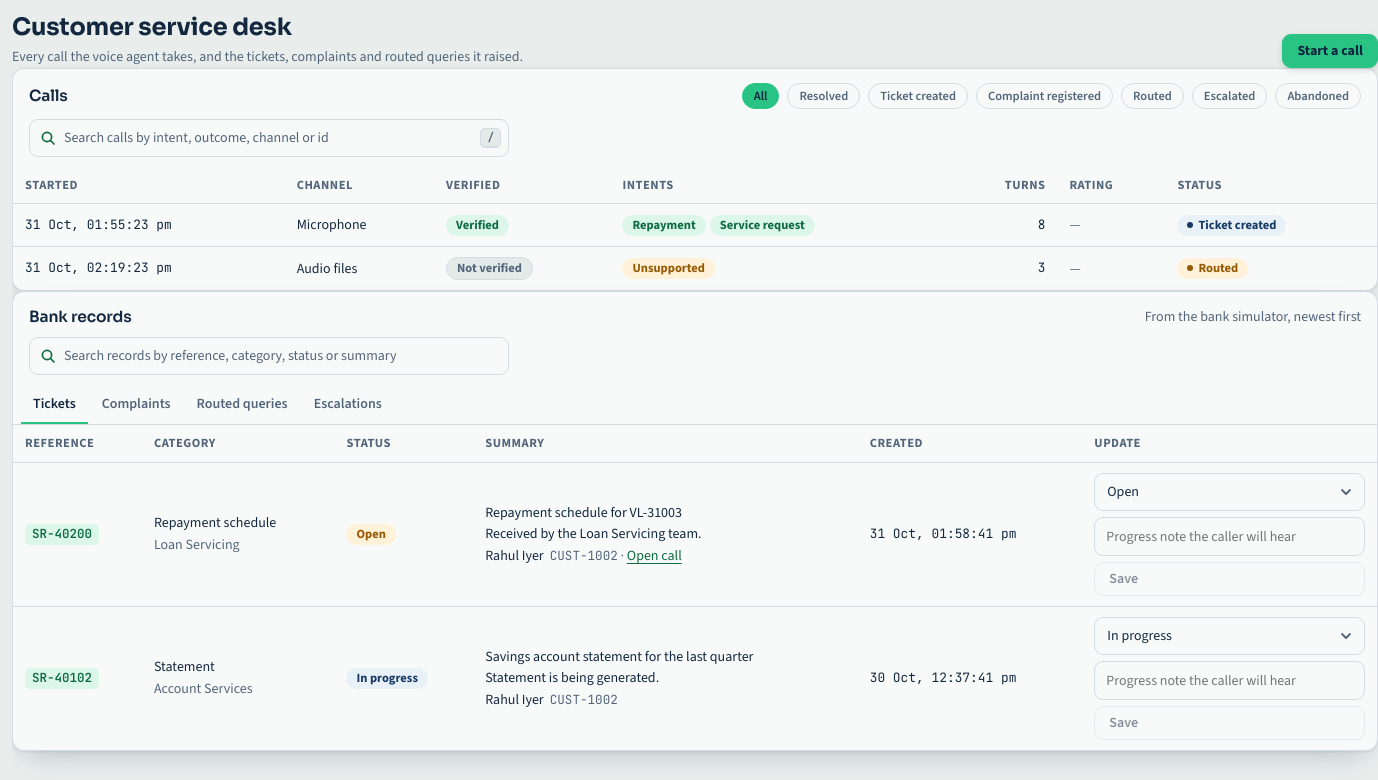
Test case: SupportDesk › stages a status and a progress note, saves only on Save, and refreshes the row
expect the text "SR-40200" is shown: met, box [25, 524, 99, 545]
expect the button with aria-label "Save SR-40200" is disabled: met, box [1094, 562, 1365, 596]
Click the button with aria-label "Status of SR-40200": [1123, 491] box [1094, 473, 1365, 511]
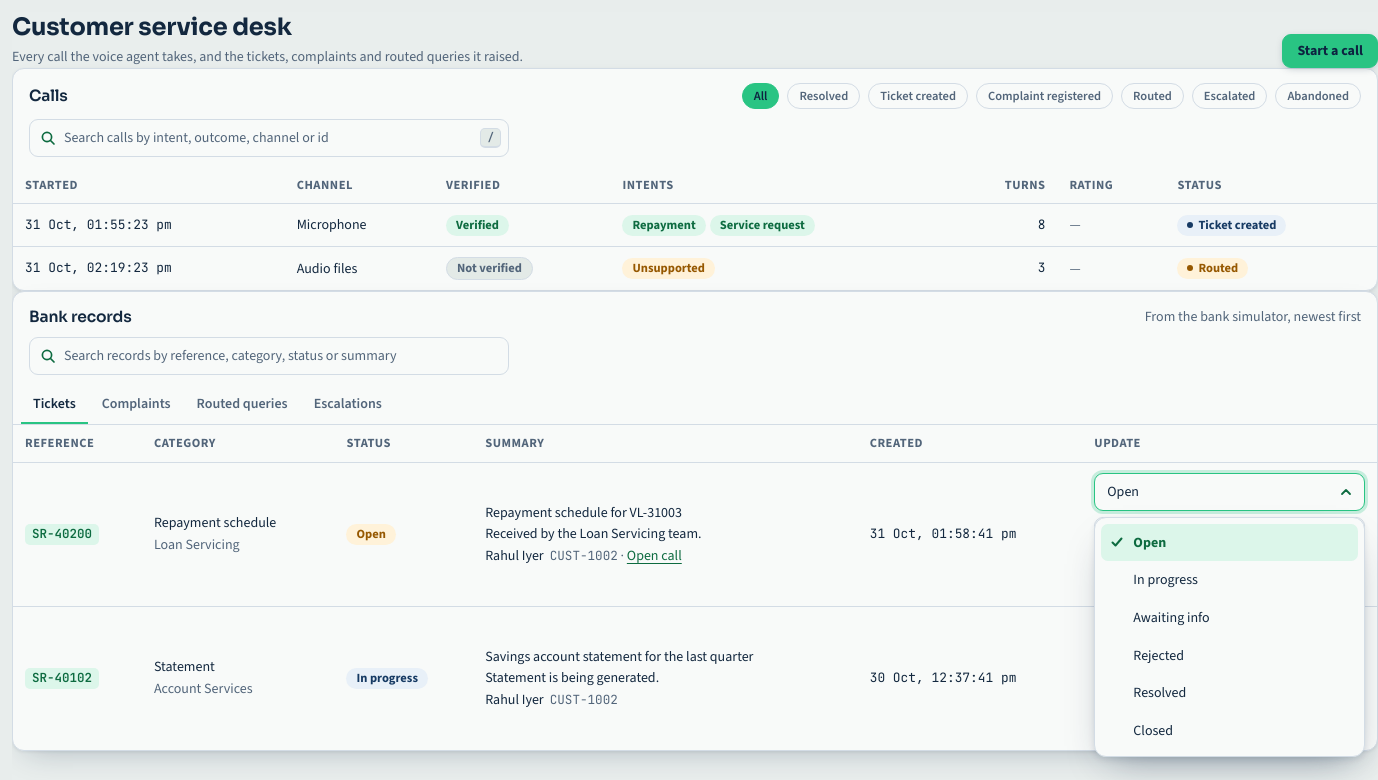
Click the option "Awaiting info": [1171, 617] box [1133, 608, 1210, 627]
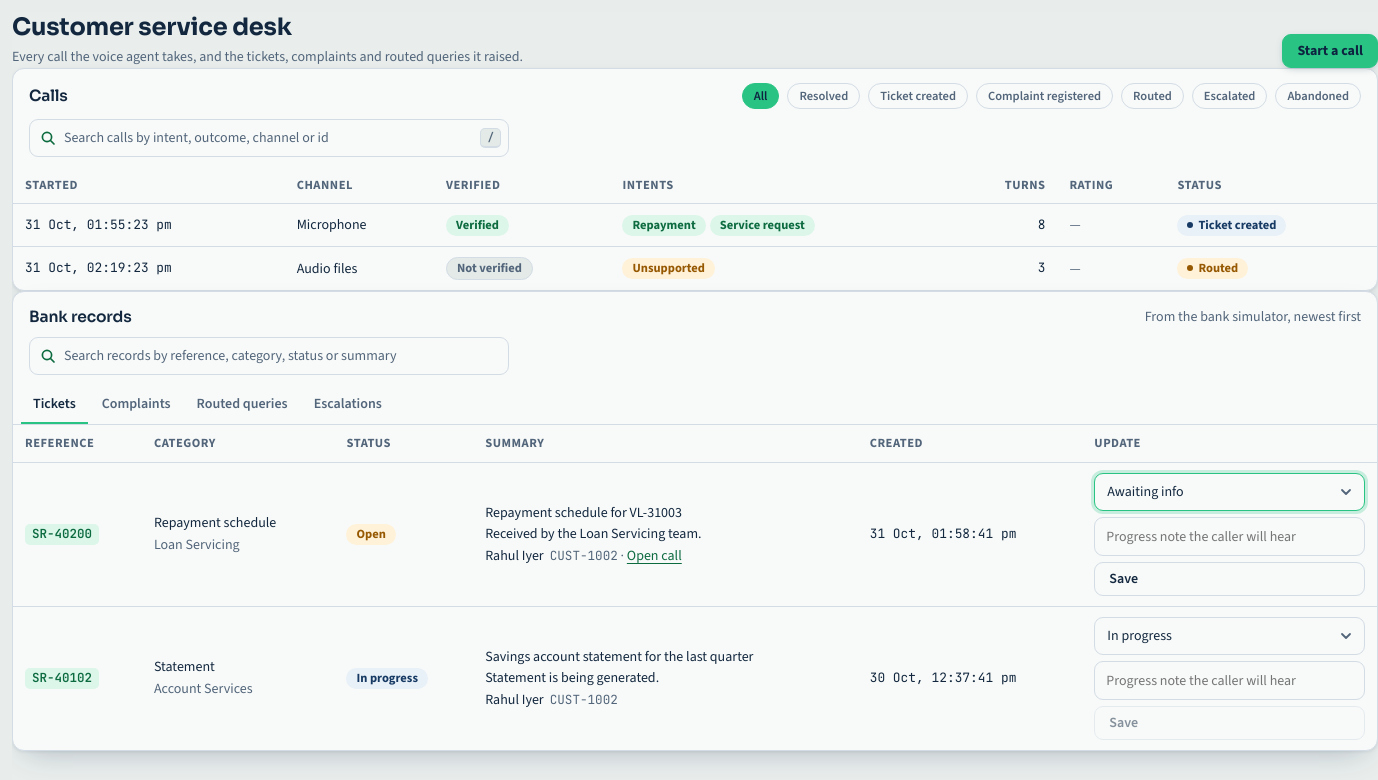
expect the text "Open" is shown: met, box [346, 524, 396, 545]
expect the button with aria-label "Save SR-40200" is enabled: met, box [1094, 562, 1365, 596]
In the field named "Progress note for SR-40200": [1230, 536] box [1094, 517, 1365, 556], type "Need the loan account number."
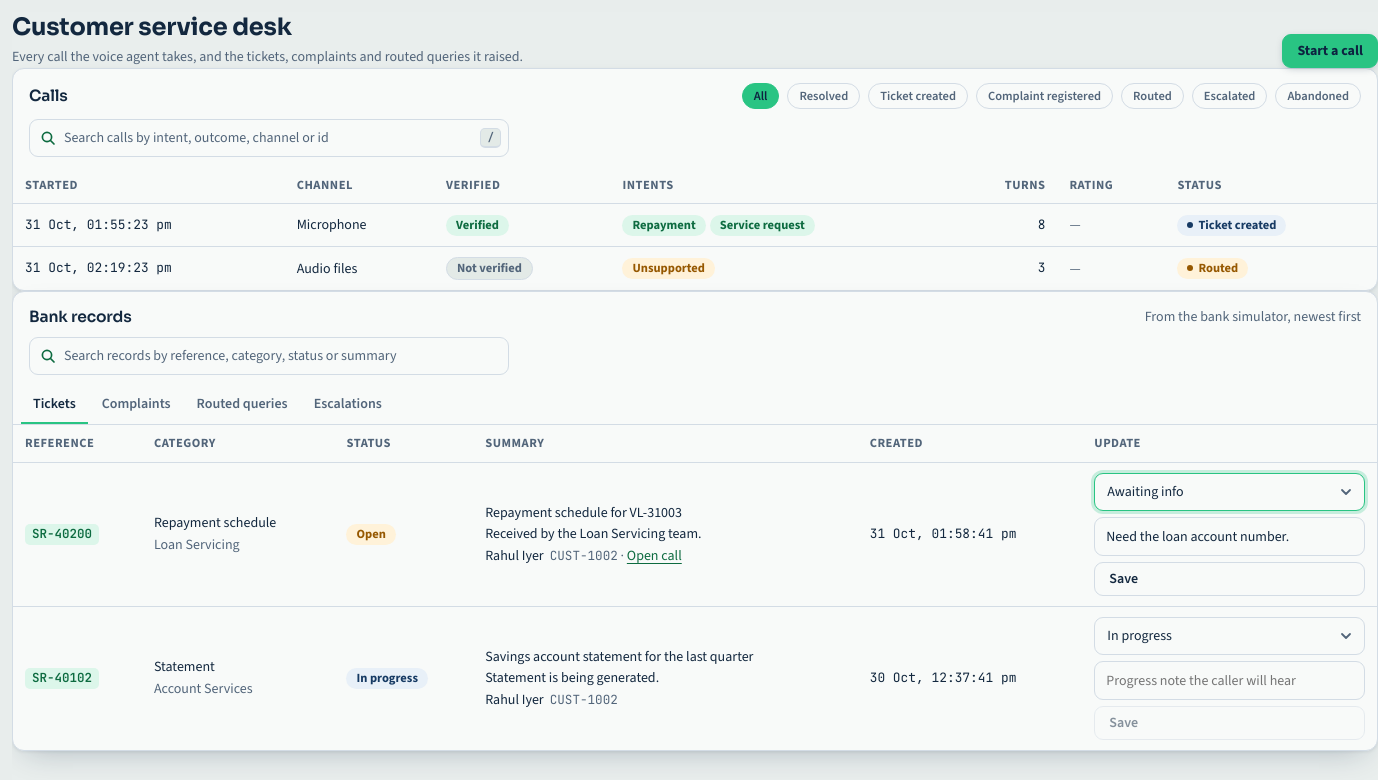
Click the button with aria-label "Save SR-40200": [1124, 579] box [1094, 562, 1365, 596]
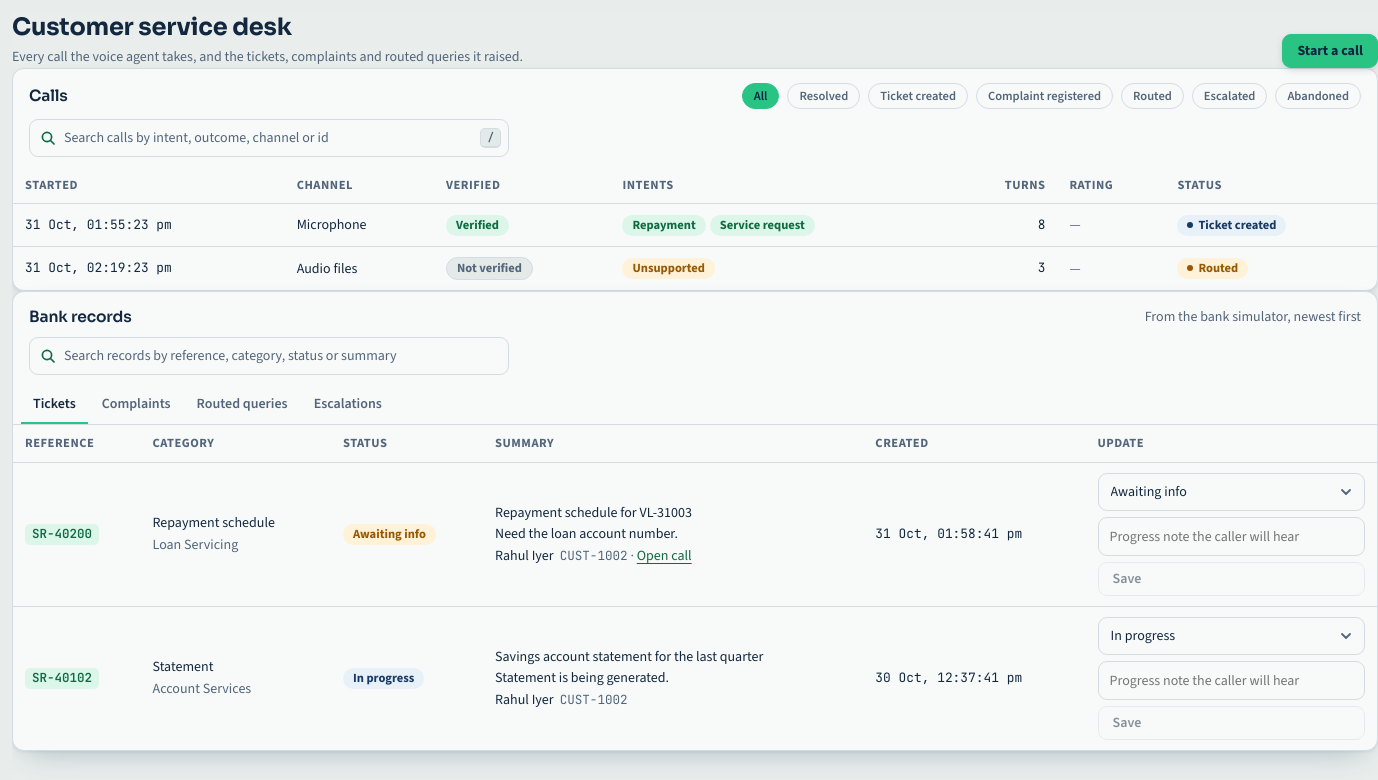
expect the button with aria-label "Status of SR-40200" reads "Awaiting info": met, box [1098, 473, 1365, 511]
expect the text "Need the loan account number." is shown: met, box [495, 524, 678, 543]
expect the field named "Progress note for SR-40200" is empty: met, box [1098, 517, 1365, 556]
